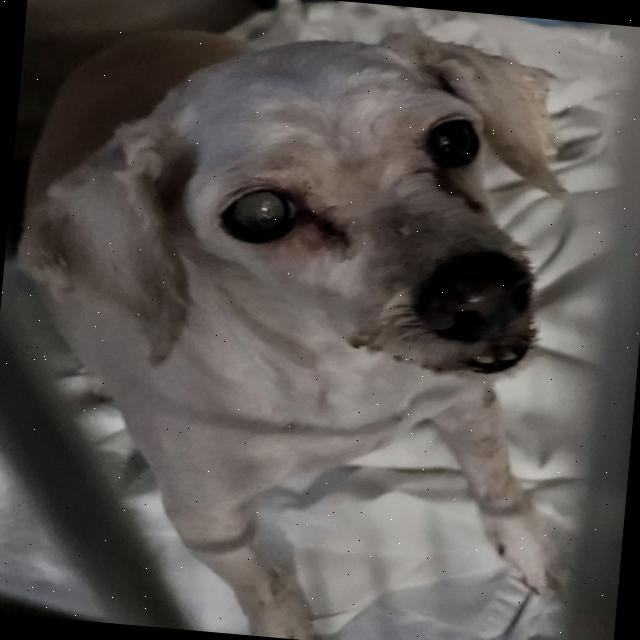Poodle_dog: (5, 0, 609, 419)
